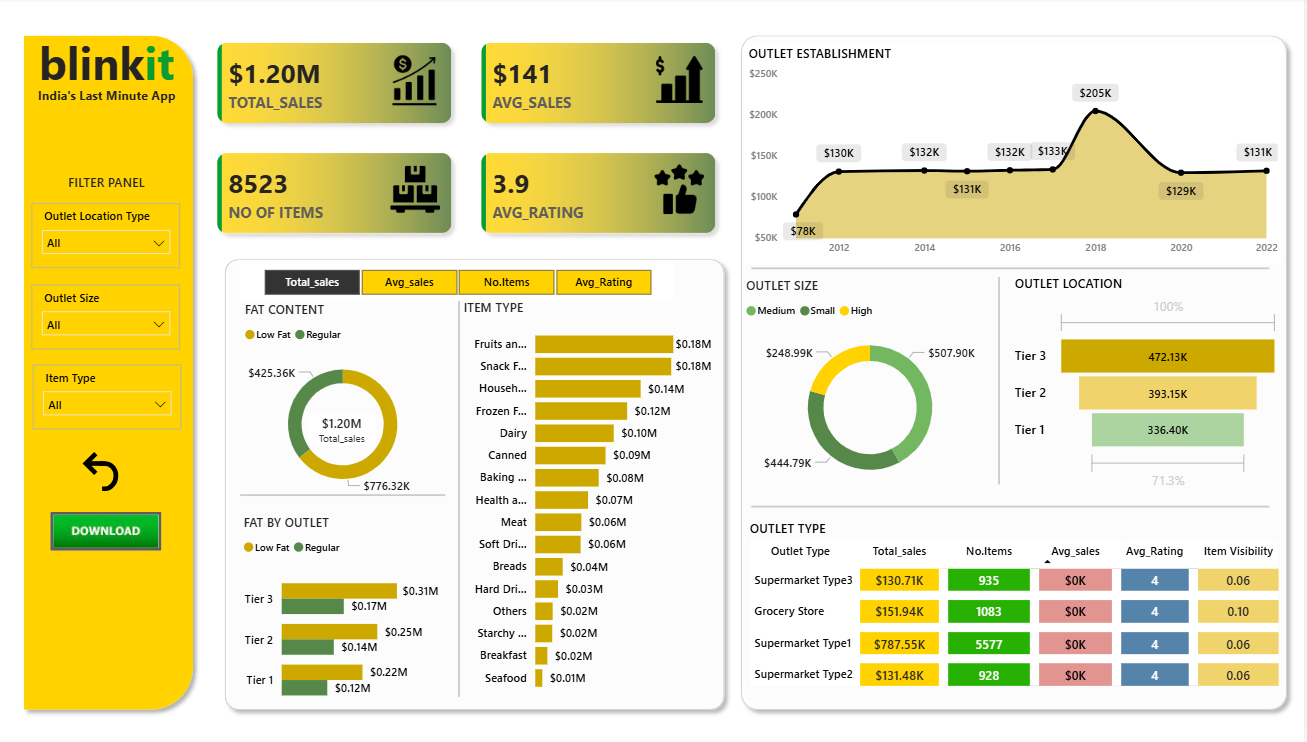

Layout of this report page (visuals, bound fields, positions):
{"tool":"powerbi","page":{"name":"Page 1","canvas":[1400,800],"ordinal":0},"visuals":[{"type":"shape","box":[17.4,32.2,199.7,741.3],"z":0},{"type":"textbox","box":[31.1,32.7,169.6,74.7],"z":1000},{"type":"textbox","box":[31.1,91.8,169.6,29.6],"z":2000},{"type":"cardVisual","fields":{"Data":["BlinkIT Grocery Data.Total_sales","BlinkIT Grocery Data.Avg_sales","BlinkIT Grocery Data.No.Items","BlinkIT Grocery Data.Avg_Rating"]},"box":[217.2,32.2,569.7,239.9],"z":3000},{"type":"shape","box":[233.2,272.1,553.6,501.3],"z":4000},{"type":"donutChart","title":"FAT CONTENT","fields":{"Category":["BlinkIT Grocery Data.Item Fat Content"],"Y":["BlinkIT Grocery Data.Total_sales"]},"box":[258.7,325.7,220,220],"z":5000},{"type":"slicer","fields":{"Values":["Metrics.Metrics"]},"box":[258.7,285.5,465.1,40.2],"z":6000},{"type":"cardVisual","fields":{"Data":["BlinkIT Grocery Data.Total_sales"]},"box":[313.7,429,108.6,69.7],"z":7000},{"type":"clusteredBarChart","title":"FAT BY OUTLET","fields":{"Category":["BlinkIT Grocery Data.Outlet Location Type"],"Series":["BlinkIT Grocery Data.Item Fat Content"],"Y":["BlinkIT Grocery Data.Total_sales"]},"box":[257.2,553.9,219.3,219.3],"z":8000},{"type":"shape","box":[258.7,522.8,219.8,22.8],"z":9000},{"type":"shape","box":[483.9,325.7,18.8,424.9],"z":10000},{"type":"barChart","title":"ITEM TYPE","fields":{"Category":["BlinkIT Grocery Data.Item Type"],"Y":["BlinkIT Grocery Data.Total_sales"]},"box":[493.3,323.1,276.1,431.6],"z":11000},{"type":"shape","box":[786.9,32.2,603.2,741.3],"z":12000},{"type":"lineChart","title":"OUTLET ESTABLISHMENT","fields":{"Category":["BlinkIT Grocery Data.Outlet Establishment Year"],"Y":["BlinkIT Grocery Data.Total_sales"]},"box":[798.5,50.5,577.6,235.1],"z":13000},{"type":"shape","box":[806.4,280.9,555.5,18.9],"z":14000},{"type":"donutChart","title":"OUTLET SIZE","fields":{"Category":["BlinkIT Grocery Data.Outlet Size"],"Y":["BlinkIT Grocery Data.Total_sales"]},"box":[796.9,299.8,276.2,235.1],"z":15000},{"type":"shape","box":[1063.6,299.8,18.9,222.5],"z":16000},{"type":"shape","box":[806.4,539.7,555.5,12.6],"z":17000},{"type":"funnel","title":"OUTLET LOCATION","fields":{"Category":["BlinkIT Grocery Data.Outlet Location Type"],"Y":["Sum(BlinkIT Grocery Data.Sales)"]},"box":[1084.1,298.2,293.5,236.7],"z":18000},{"type":"pivotTable","title":"OUTLET TYPE","fields":{"Rows":["BlinkIT Grocery Data.Outlet Type"],"Values":["BlinkIT Grocery Data.Total_sales","BlinkIT Grocery Data.No.Items","BlinkIT Grocery Data.Avg_sales","BlinkIT Grocery Data.Avg_Rating","Avg(BlinkIT Grocery Data.Item Visibility)"]},"box":[800.1,560.2,577.6,228.8],"z":19000},{"type":"slicer","fields":{"Values":["BlinkIT Grocery Data.Outlet Location Type"]},"box":[34.7,220.9,159.4,69.4],"z":20000},{"type":"slicer","fields":{"Values":["BlinkIT Grocery Data.Outlet Size"]},"box":[34.7,307.7,159.4,69.4],"z":21000},{"type":"slicer","fields":{"Values":["BlinkIT Grocery Data.Item Type"]},"box":[36.3,394.5,159.4,69.4],"z":22000},{"type":"textbox","box":[36.2,185,158.2,36.2],"z":23000},{"type":"actionButton","box":[83.1,482.6,61.7,52.3],"z":24000},{"type":"actionButton","box":[55,552.3,119.3,41.6],"z":25000}]}

Visuals, with their boxes in screenshot pixels (x1, y1, x2, y2), scaled from the page's 1400x800 canvas onto the 1307x742 screenshot:
shape: detection(16, 30, 203, 717)
textbox: detection(29, 30, 187, 100)
textbox: detection(29, 85, 187, 113)
cardVisual - BlinkIT Grocery Data.Total_sales x BlinkIT Grocery Data.Avg_sales: detection(203, 30, 735, 252)
shape: detection(218, 252, 735, 717)
"FAT CONTENT" donutChart: detection(242, 302, 447, 506)
slicer - Metrics.Metrics: detection(242, 265, 676, 302)
cardVisual - BlinkIT Grocery Data.Total_sales: detection(293, 398, 394, 463)
"FAT BY OUTLET" clusteredBarChart: detection(240, 514, 445, 717)
shape: detection(242, 485, 447, 506)
shape: detection(452, 302, 469, 696)
"ITEM TYPE" barChart: detection(461, 300, 718, 700)
shape: detection(735, 30, 1298, 717)
"OUTLET ESTABLISHMENT" lineChart: detection(745, 47, 1285, 265)
shape: detection(753, 261, 1271, 278)
"OUTLET SIZE" donutChart: detection(744, 278, 1002, 496)
shape: detection(993, 278, 1011, 484)
shape: detection(753, 501, 1271, 512)
"OUTLET LOCATION" funnel: detection(1012, 277, 1286, 496)
"OUTLET TYPE" pivotTable: detection(747, 520, 1286, 732)
slicer - BlinkIT Grocery Data.Outlet Location Type: detection(32, 205, 181, 269)
slicer - BlinkIT Grocery Data.Outlet Size: detection(32, 285, 181, 350)
slicer - BlinkIT Grocery Data.Item Type: detection(34, 366, 183, 430)
textbox: detection(34, 172, 181, 205)
actionButton: detection(78, 448, 135, 496)
actionButton: detection(51, 512, 163, 551)
